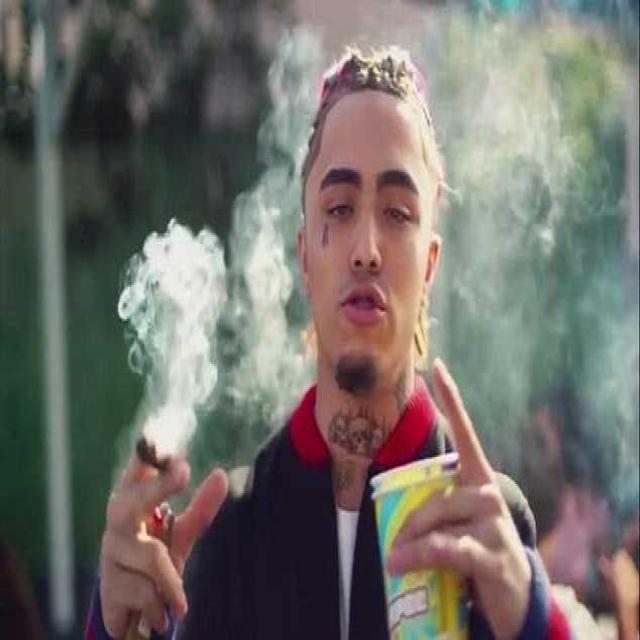Smooking: (132, 418, 178, 474)
